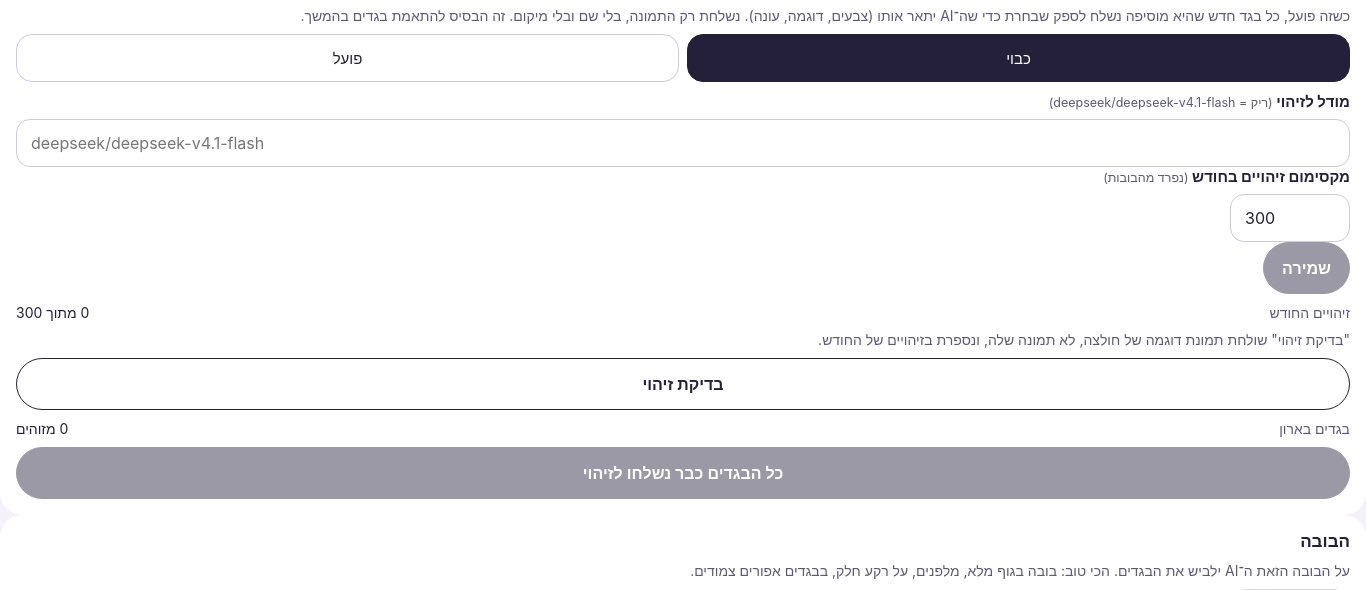
Test: AnalysisPanel › checks with the bundled sample photo, even while off, and counts it as an analysis only
(page scrolled)
Expected: the text "0 מתוך 300" is shown, left=16, top=304, right=89, bottom=321
Click the button "בדיקת זיהוי" at (683, 384), box left=16, top=358, right=1350, bottom=410
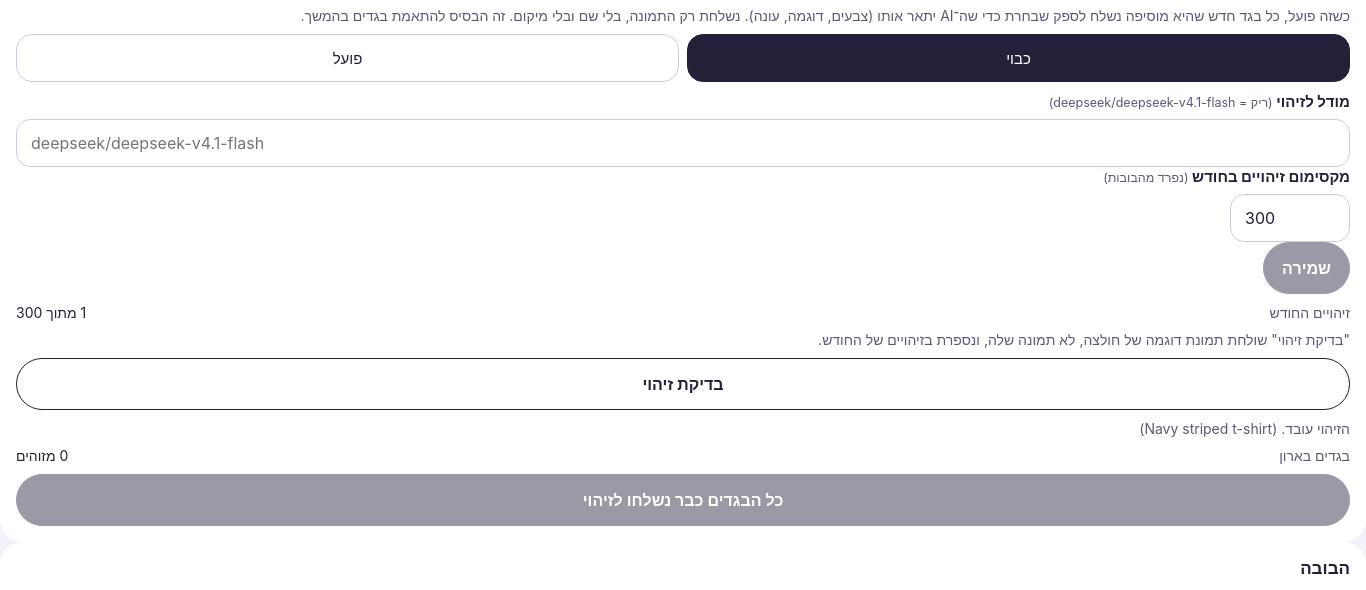
Now the text "1 מתוך 300" is shown, box left=16, top=304, right=86, bottom=321
